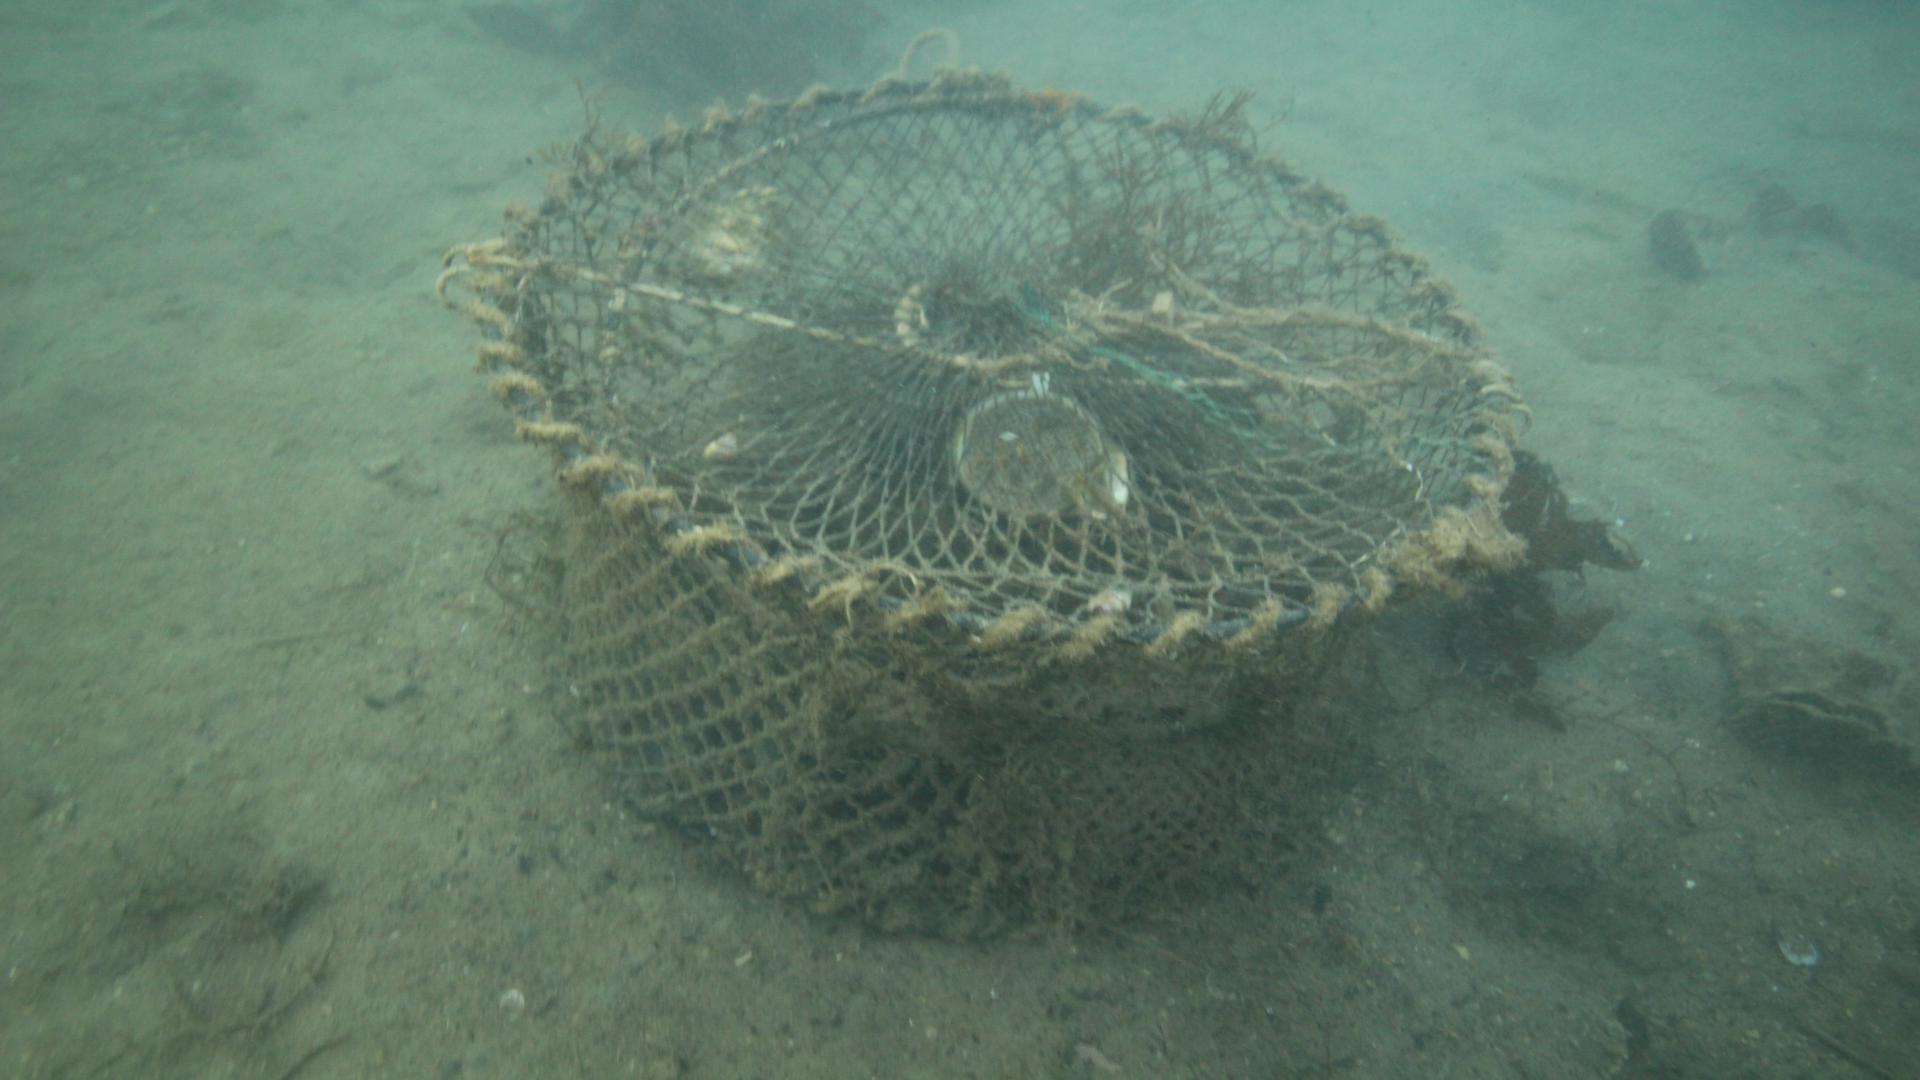circular fish trap: (433, 66, 1526, 945)
rope: (889, 22, 960, 98)
